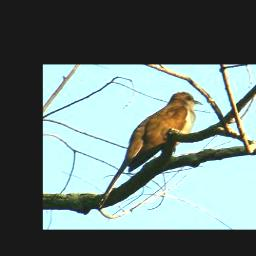Cuckoo: (126, 91, 203, 174)
